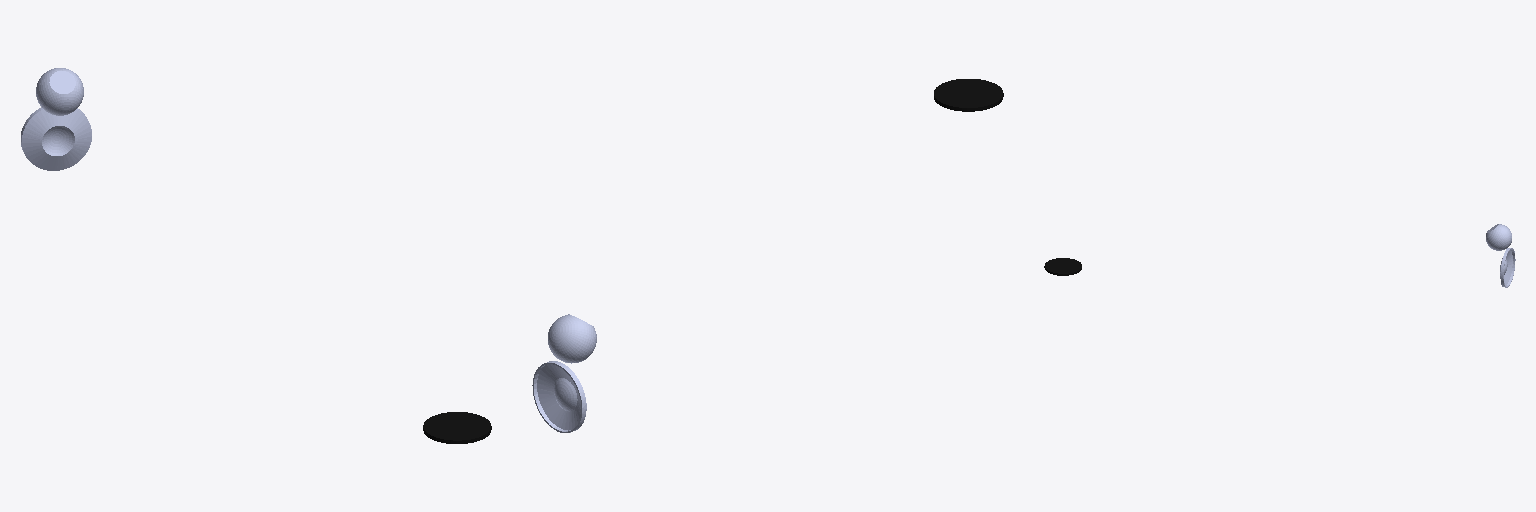
robot.urdf — conjunt:
<robot
  name="conjunt">
  <link
    name="base_ground">
    <inertial>
      <origin
        xyz="0 0 0"
        rpy="0 0 0" />
      <mass
        value="0.028373" />
      <inertia
        ixx="1.2871E-05"
        ixy="7.0586E-23"
        ixz="7.1324E-38"
        iyy="2.5624E-05"
        iyz="7.0586E-23"
        izz="1.2871E-05" />
    </inertial>
    <visual>
      <origin
        xyz="0 0 0"
        rpy="0 0 0" />
      <geometry>
        <mesh
          filename="package://conjunt/meshes/base_ground.STL" />
      </geometry>
      <material
        name="">
        <color
          rgba="0.1 0.1 0.1 1" />
      </material>
    </visual>
    <collision>
      <origin
        xyz="0 0 0"
        rpy="0 0 0" />
      <geometry>
        <mesh
          filename="package://conjunt/meshes/base_ground.STL" />
      </geometry>
    </collision>
  </link>
  <link
    name="base_cam">
    <inertial>
      <origin
        xyz="0 0 0"
        rpy="0 0 0" />
      <mass
        value="0.016692" />
      <inertia
        ixx="9.9831E-06"
        ixy="3.5561E-22"
        ixz="9.5291E-21"
        iyy="1.9511E-05"
        iyz="-7.7013E-21"
        izz="9.9831E-06" />
    </inertial>
    <visual>
      <origin
        xyz="0 0 0"
        rpy="0 0 0" />
      <geometry>
        <mesh
          filename="package://conjunt/meshes/base_cam.STL" />
      </geometry>
      <material
        name="">
        <color
          rgba="0.79216 0.81961 0.93333 1" />
      </material>
    </visual>
    <collision>
      <origin
        xyz="0 0 0"
        rpy="0 0 0" />
      <geometry>
        <mesh
          filename="package://conjunt/meshes/base_cam.STL" />
      </geometry>
    </collision>
  </link>
  <joint
    name="joint_1"
    type="revolute">
    <origin
      xyz="0 1 0"
      rpy="1.5708 -1.8456E-17 -0.30618" />
    <parent
      link="base_ground" />
    <child
      link="base_cam" />
    <axis
      xyz="0 0 0" />
    <limit
      effort="0"
      velocity="0" />
  </joint>
  <link
    name="cam">
    <inertial>
      <origin
        xyz="9.3783E-18 -1.3184E-16 -0.00053571"
        rpy="0 0 0" />
      <mass
        value="0.11087" />
      <inertia
        ixx="3.8991E-05"
        ixy="8.4703E-22"
        ixz="-8.4703E-22"
        iyy="3.8991E-05"
        iyz="-3.3881E-21"
        izz="4.0508E-05" />
    </inertial>
    <visual>
      <origin
        xyz="0 0 0"
        rpy="0 0 0" />
      <geometry>
        <mesh
          filename="package://conjunt/meshes/cam.STL" />
      </geometry>
      <material
        name="">
        <color
          rgba="0.79216 0.81961 0.93333 1" />
      </material>
    </visual>
    <collision>
      <origin
        xyz="0 0 0"
        rpy="0 0 0" />
      <geometry>
        <mesh
          filename="package://conjunt/meshes/cam.STL" />
      </geometry>
    </collision>
  </link>
  <joint
    name="cam"
    type="revolute">
    <origin
      xyz="0 0.04 0"
      rpy="-0.91309 9.4369E-16 0" />
    <parent
      link="base_cam" />
    <child
      link="cam" />
    <axis
      xyz="0 0 0" />
    <limit
      effort="0"
      velocity="0" />
  </joint>
</robot>

--- Facts derived from the render (not from the file) ---
Views: 3 orthographic renders of the robot side by side, from view 1: azimuth 30°, elevation 25°; view 2: azimuth 150°, elevation 25°; view 3: azimuth 270°, elevation 25°.
Model conjunt with 3 links and 2 joints (2 revolute), rooted at base_ground, posed every joint at zero.
Links seen in each view (by area): view 1: base_cam, cam, base_ground; view 2: base_cam, base_ground, cam; view 3: cam, base_ground.
Boxes of the visible links, box(x1,y1,x2,y2) form: base_cam: box(21, 107, 91, 170); cam: box(36, 68, 83, 115); base_ground: box(423, 412, 491, 443); base_cam: box(532, 361, 586, 432); base_ground: box(934, 79, 1003, 111); cam: box(548, 314, 596, 363); cam: box(1486, 224, 1511, 250); base_ground: box(1044, 258, 1081, 275).
Bounding box of the posed robot: 0.0879 × 1.06 × 0.1466 m (x, y, z).
3 mesh visuals loaded from 3 distinct referenced files (3 binary STL).
